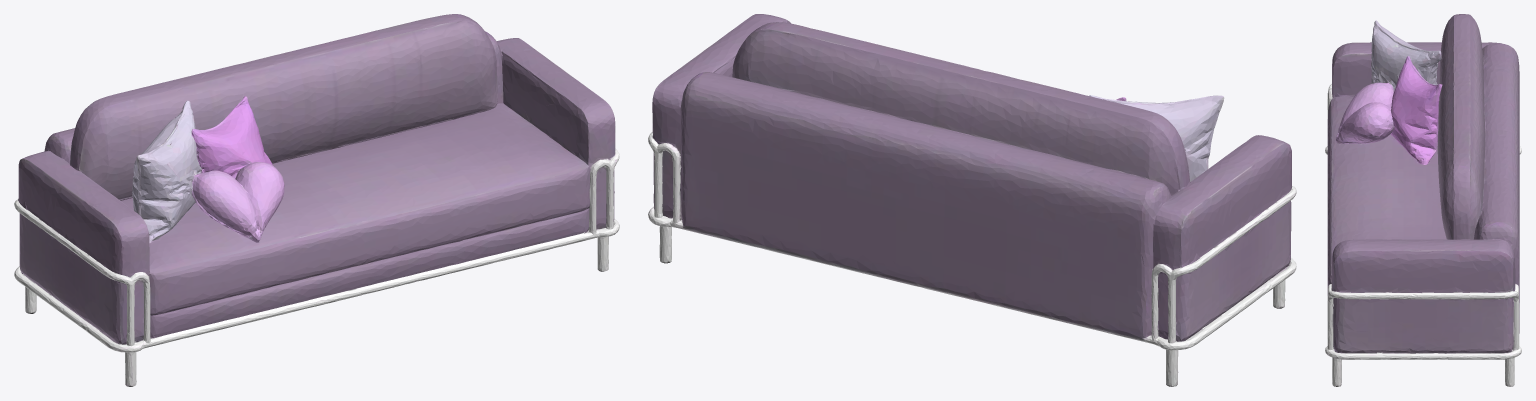
Rendered from cloud-sofa.glb.
The picture shows the model from 3 angles, left to right: view 1: azimuth 30°, elevation 25°; view 2: azimuth 150°, elevation 25°; view 3: azimuth 270°, elevation 25°; orthographic projection. The views are drawn at different scales.
Parts seen in each view (by area): view 1: world; view 2: world; view 3: world.
Boxes of the visible parts, x1,y1,x2,y2 form: world: (14,14,619,386); world: (648,14,1296,386); world: (1325,14,1521,386).
Size of the model in its own units: 1 by 0.4143 by 0.3872.
1 material, 1 textured.
